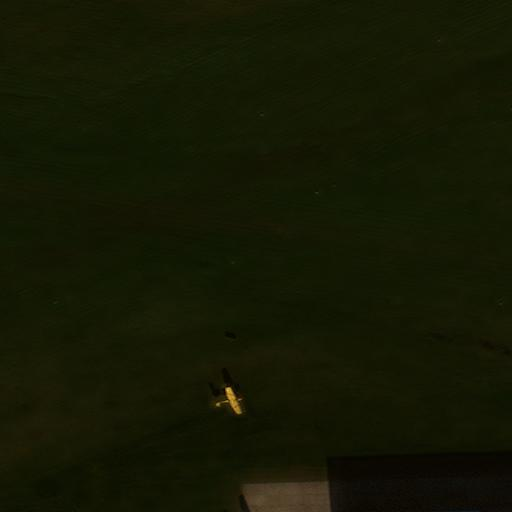Small Civil Transport: (215, 387, 241, 412)
